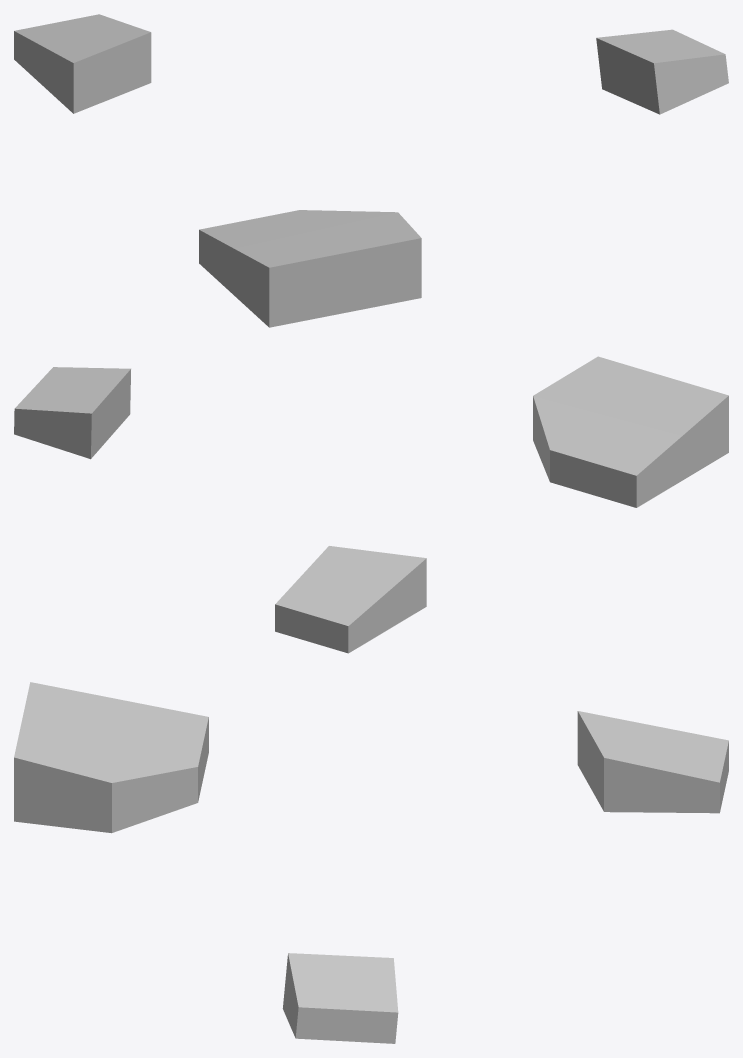
File: Rock_Blocks_s_01.fbx
The picture shows the model from 3 angles, top to bottom: view 1: azimuth 30°, elevation 25°; view 2: azimuth 150°, elevation 25°; view 3: azimuth 270°, elevation 25°; orthographic projection. The views are drawn at different scales.
Parts seen in each view (by area): view 1: Rock_Blocks_s_01; view 2: Rock_Blocks_s_01; view 3: Rock_Blocks_s_01.
Boxes of the visible parts, left/top/right/bottom form: Rock_Blocks_s_01: left=14, top=14, right=728, bottom=327; Rock_Blocks_s_01: left=14, top=356, right=728, bottom=653; Rock_Blocks_s_01: left=14, top=682, right=728, bottom=1043.
Size of the model in its own units: 48.53 by 5.45 by 48.15.
